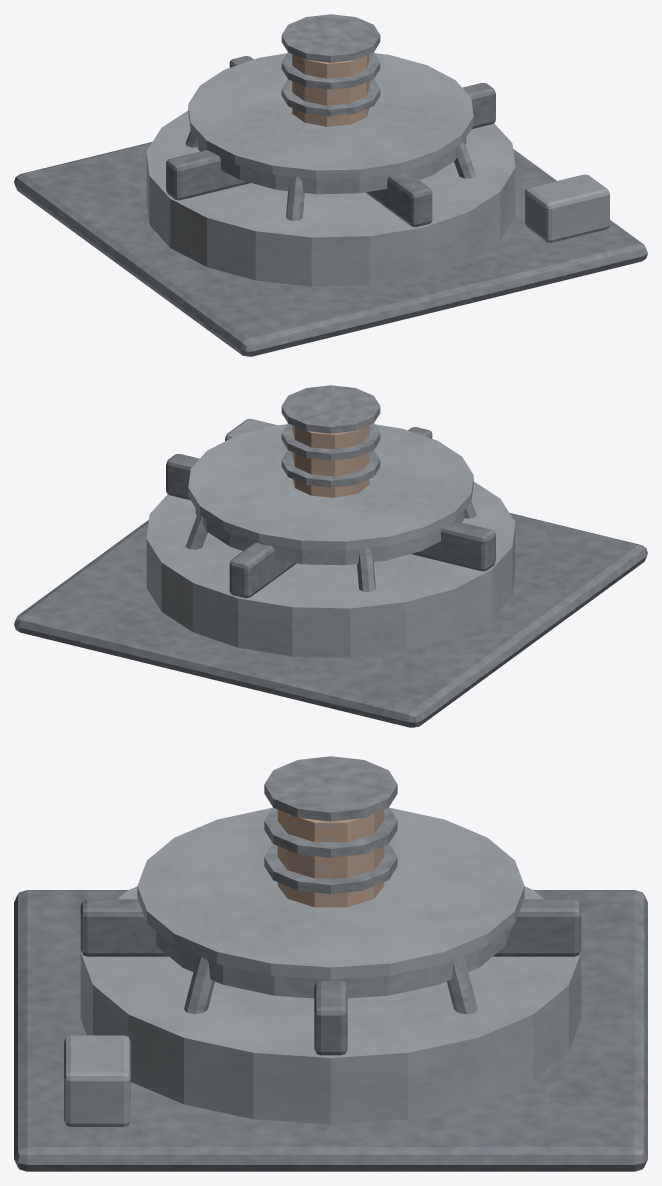
The model's file is dir_superweapon.glb.
3 views of the same model, one above another, from view 1: azimuth 30°, elevation 25°; view 2: azimuth 150°, elevation 25°; view 3: azimuth 270°, elevation 25° (orthographic). The views are drawn at different scales.
Parts seen in each view (by area): view 1: dir_superweapon; view 2: dir_superweapon; view 3: dir_superweapon.
Boxes of the visible parts, x1,y1,x2,y2 form: dir_superweapon: [14, 14, 647, 356]; dir_superweapon: [14, 385, 647, 727]; dir_superweapon: [14, 756, 647, 1171].
Size of the model in its own units: 1.9 by 0.855 by 1.9.
1 material, 1 textured.
